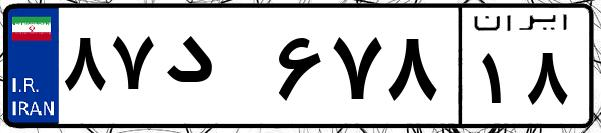1: (475, 38, 525, 113)
6: (270, 28, 330, 110)
7: (330, 28, 385, 110), (110, 28, 158, 98)
8: (385, 28, 445, 110), (57, 26, 110, 100), (525, 38, 570, 115)
د: (158, 20, 270, 120)
